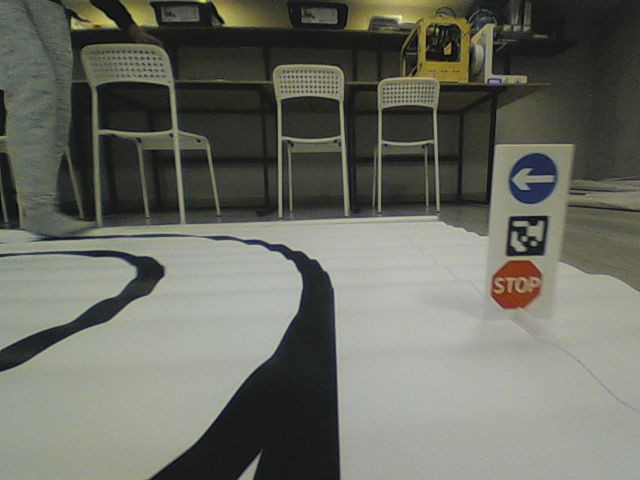Stop: (490, 257, 544, 310)
